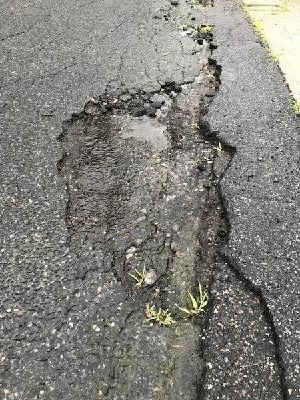pothole: (53, 28, 241, 327)
